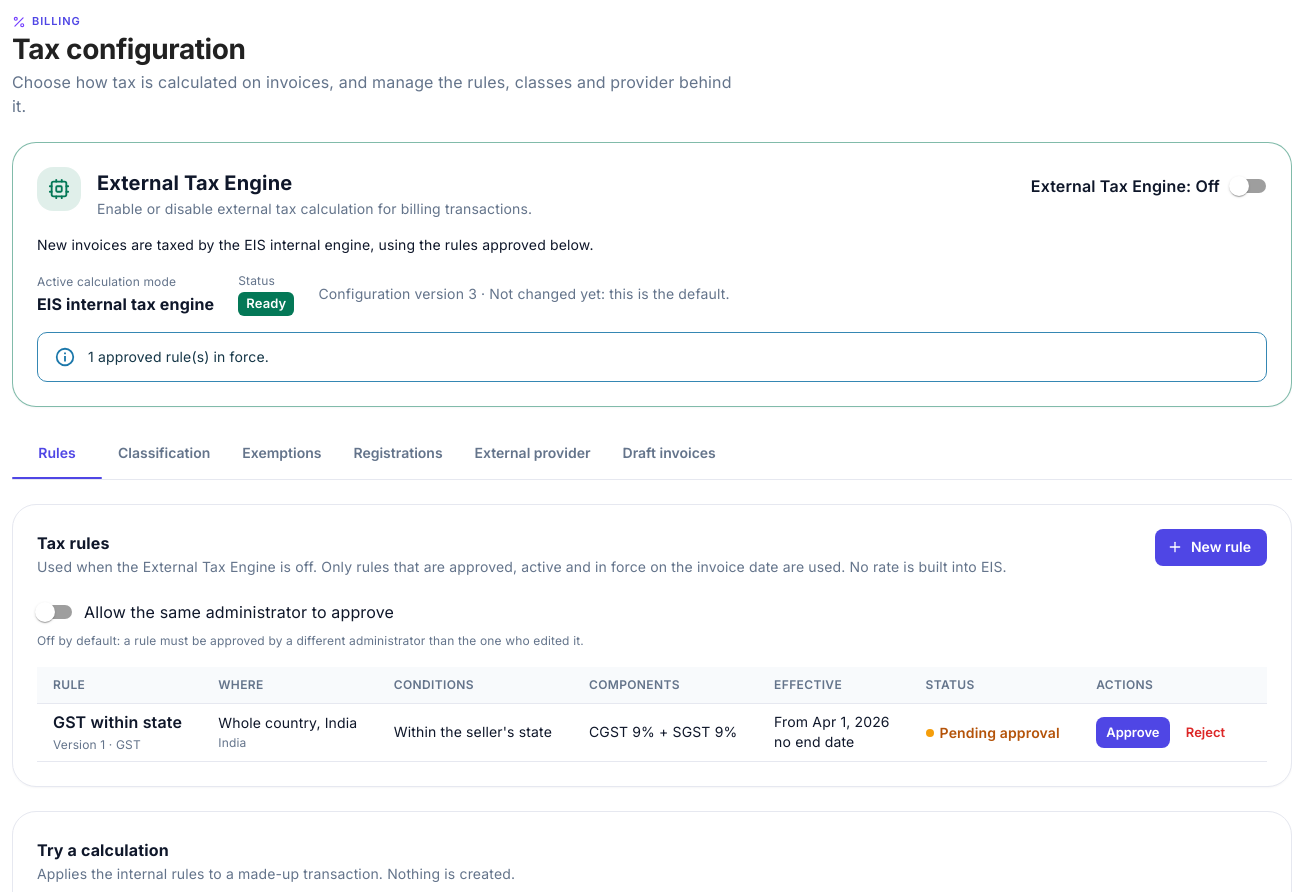
it: AdminTaxConfigurationPage › shows the server message when an approval is refused (the same administrator)
Click the button "Approve" at (1133, 732), box [1096,717,1170,748]
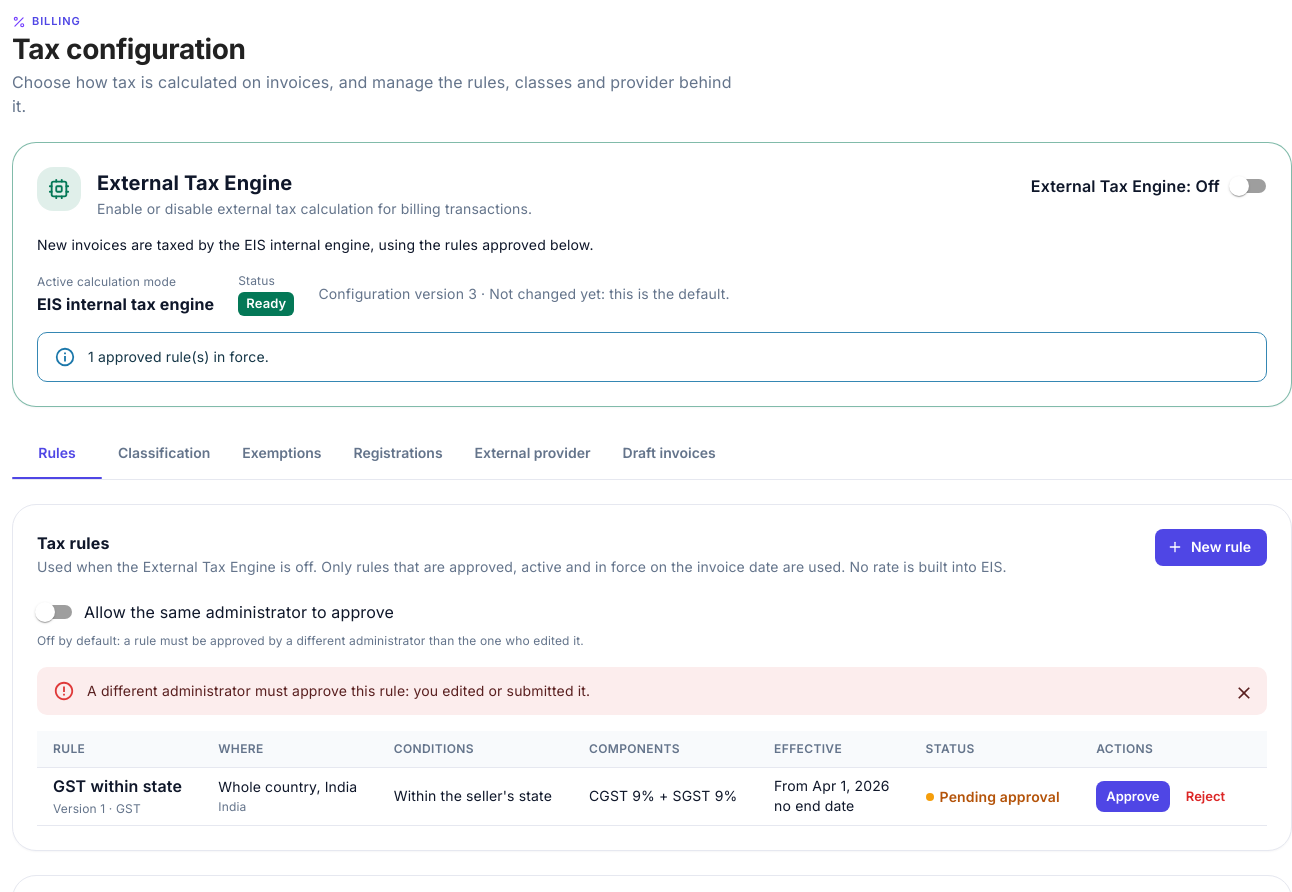
expect the text "A different administrator must approve this rule" is shown: met, box [87,682,590,699]
